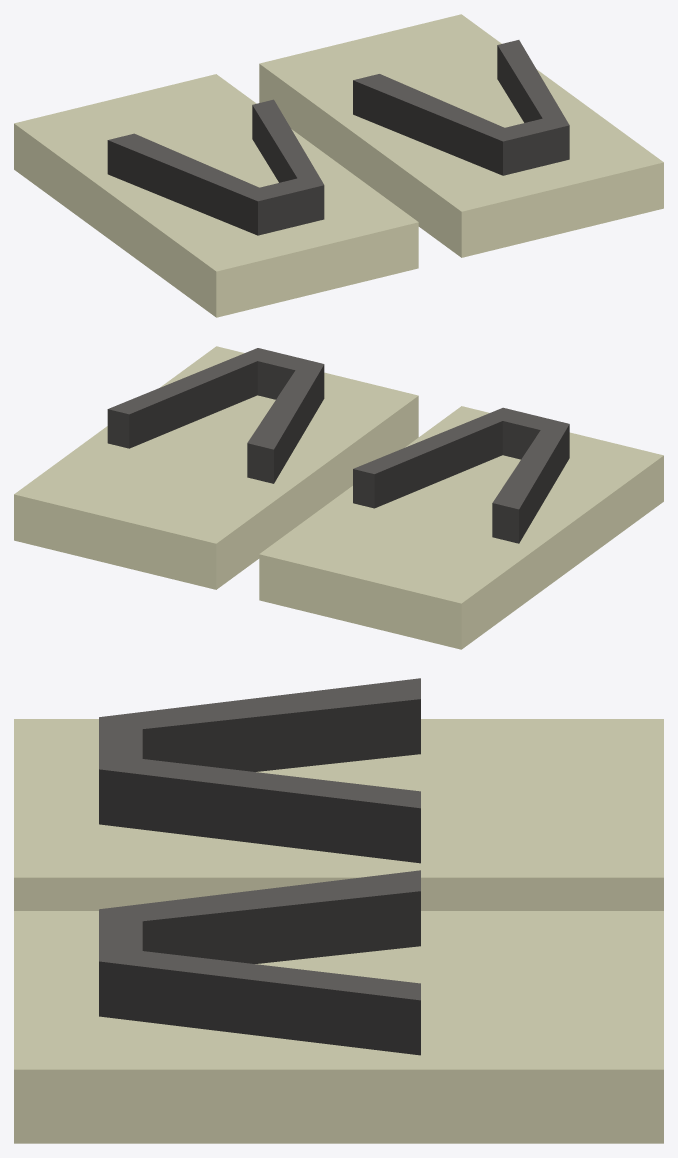
Rendered from ShoeFlipFlops.glb.
3 views of the same model, one above another, from view 1: azimuth 30°, elevation 25°; view 2: azimuth 150°, elevation 25°; view 3: azimuth 270°, elevation 25° (orthographic). The views are drawn at different scales.
Parts seen in each view (by area): view 1: SI_Prop_Shoe_Flipflops_01; view 2: SI_Prop_Shoe_Flipflops_01; view 3: SI_Prop_Shoe_Flipflops_01.
Part boxes in pixels (x1,y1,x2,y2): SI_Prop_Shoe_Flipflops_01: (14, 14, 663, 317); SI_Prop_Shoe_Flipflops_01: (14, 346, 663, 649); SI_Prop_Shoe_Flipflops_01: (14, 678, 663, 1143).
Size of the model in its own units: 0.00466 by 0.000801 by 0.00365.
Materials: 1 (1 with a texture image).
